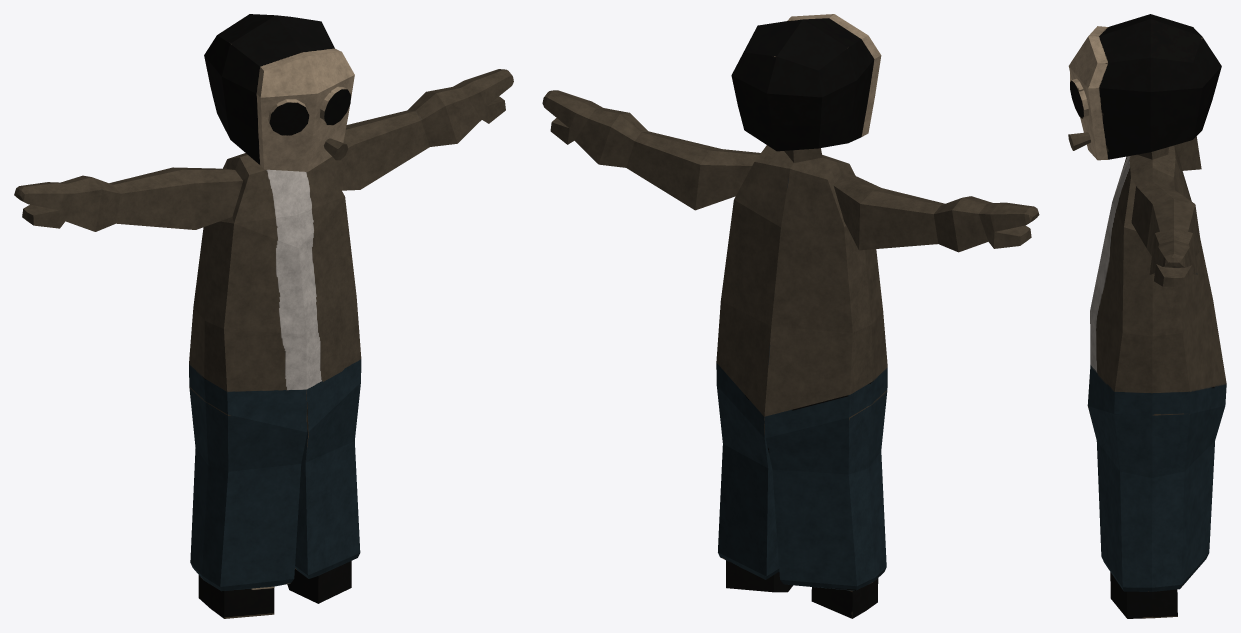
Rendered from player.obj.
3 views of the same model, side by side, from view 1: azimuth 30°, elevation 25°; view 2: azimuth 150°, elevation 25°; view 3: azimuth 270°, elevation 25° (orthographic).
Parts seen in each view (by area): view 1: char; view 2: char; view 3: char.
Boxes of the visible parts, left/top/right/bottom form: char: left=14, top=14, right=513, bottom=618; char: left=542, top=14, right=1039, bottom=618; char: left=1068, top=14, right=1226, bottom=618.
Bounding box in the file's own units: 6.18 × 6.94 × 1.75.
